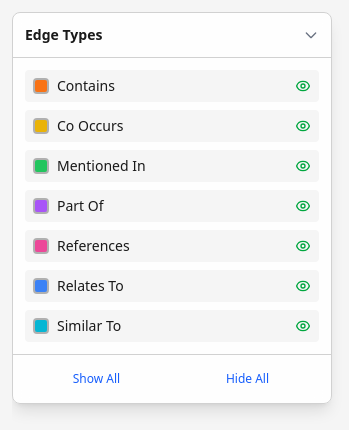
Test: GraphLegend › collapses legend on collapse button click
Click the button with test id "legend-collapse" at coordinates (311, 35), box [303, 27, 319, 43]
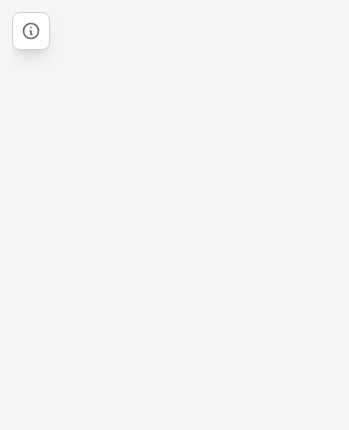
Check: the heading "Edge Types" is gone
Check: the button with test id "legend-expand" is shown, box [12, 12, 50, 50]
